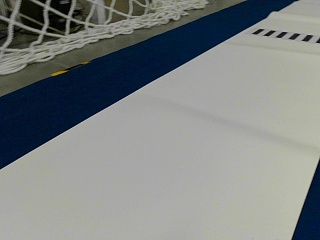crosswalk: (253, 28, 318, 43)
